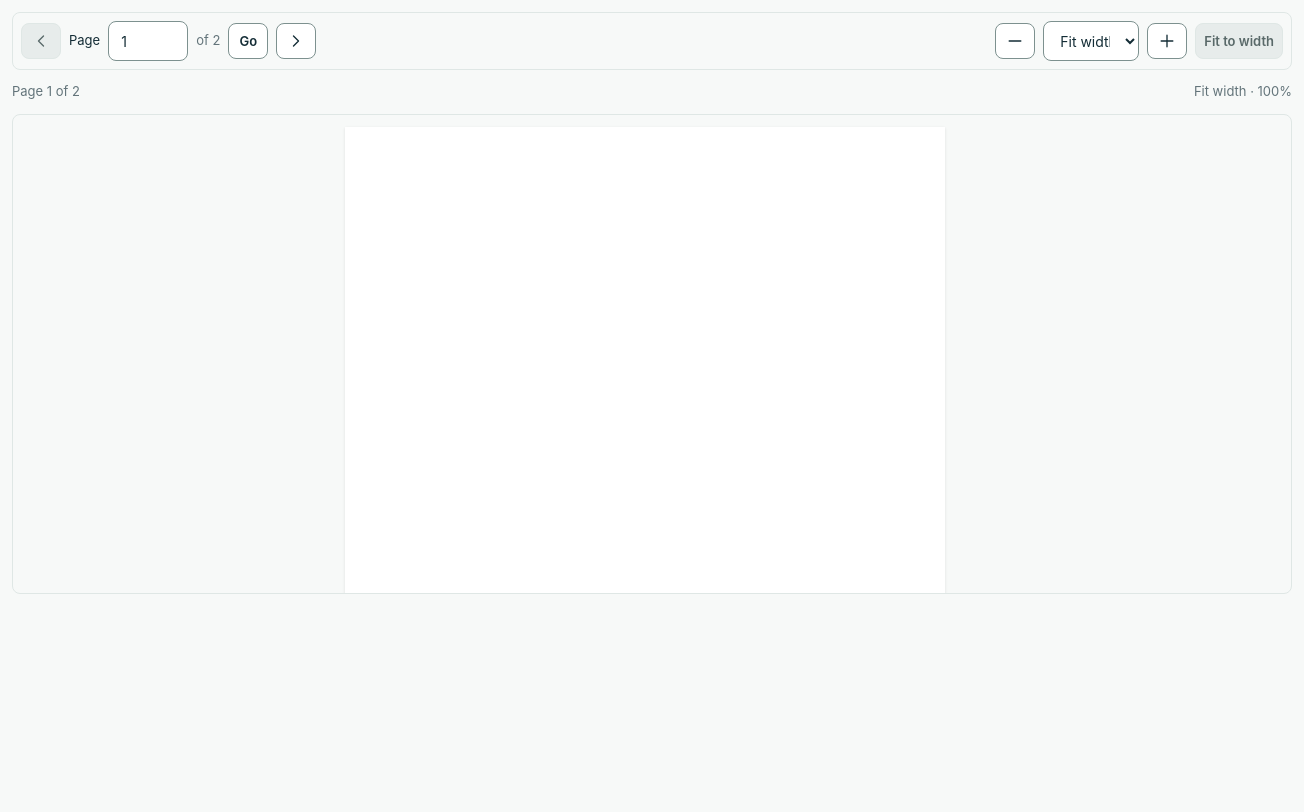
Scenario: PDF page reader › rejects invalid direct page entry "1.5" without inventing a page
Replace the text in the number field named "Page number" with "1.5" at (148, 41), box [108, 21, 188, 61]
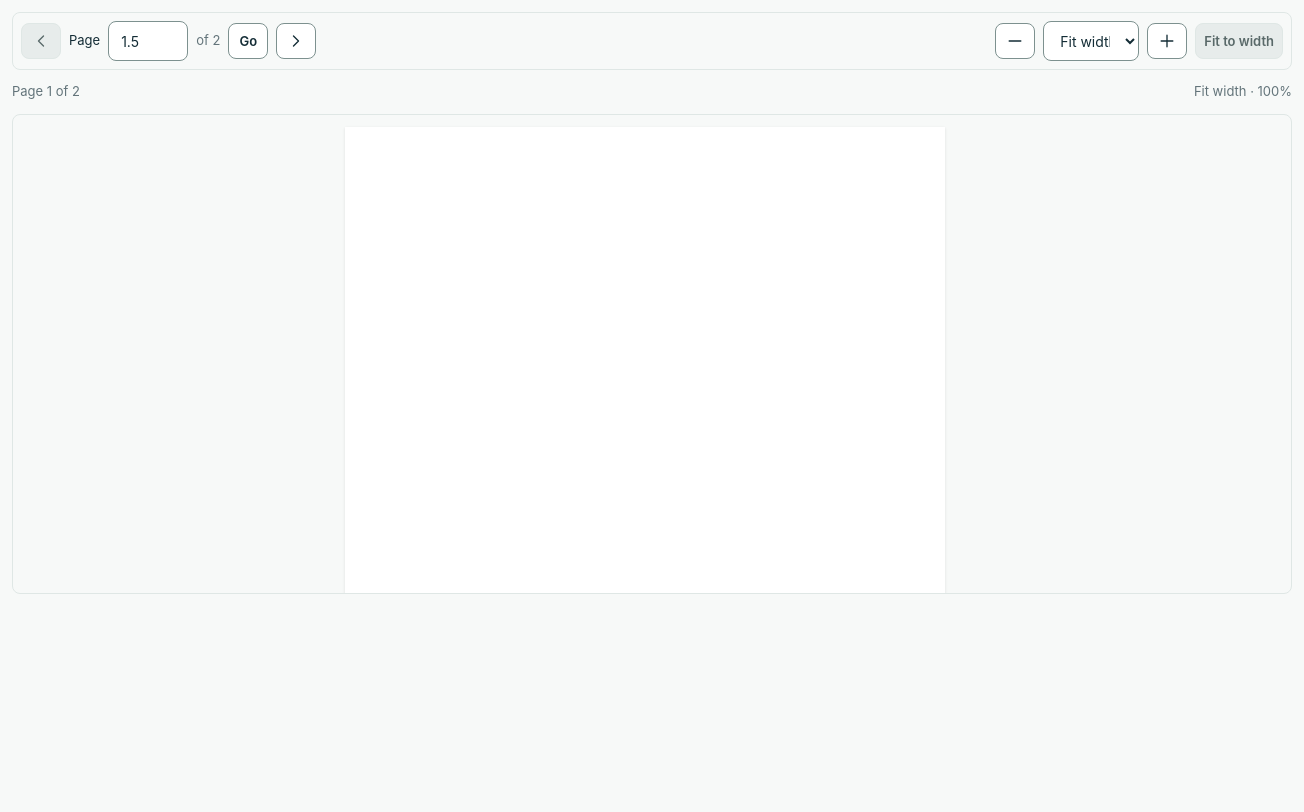
Click the button "Go" at (248, 41), box [228, 23, 268, 59]
(page scrolled)
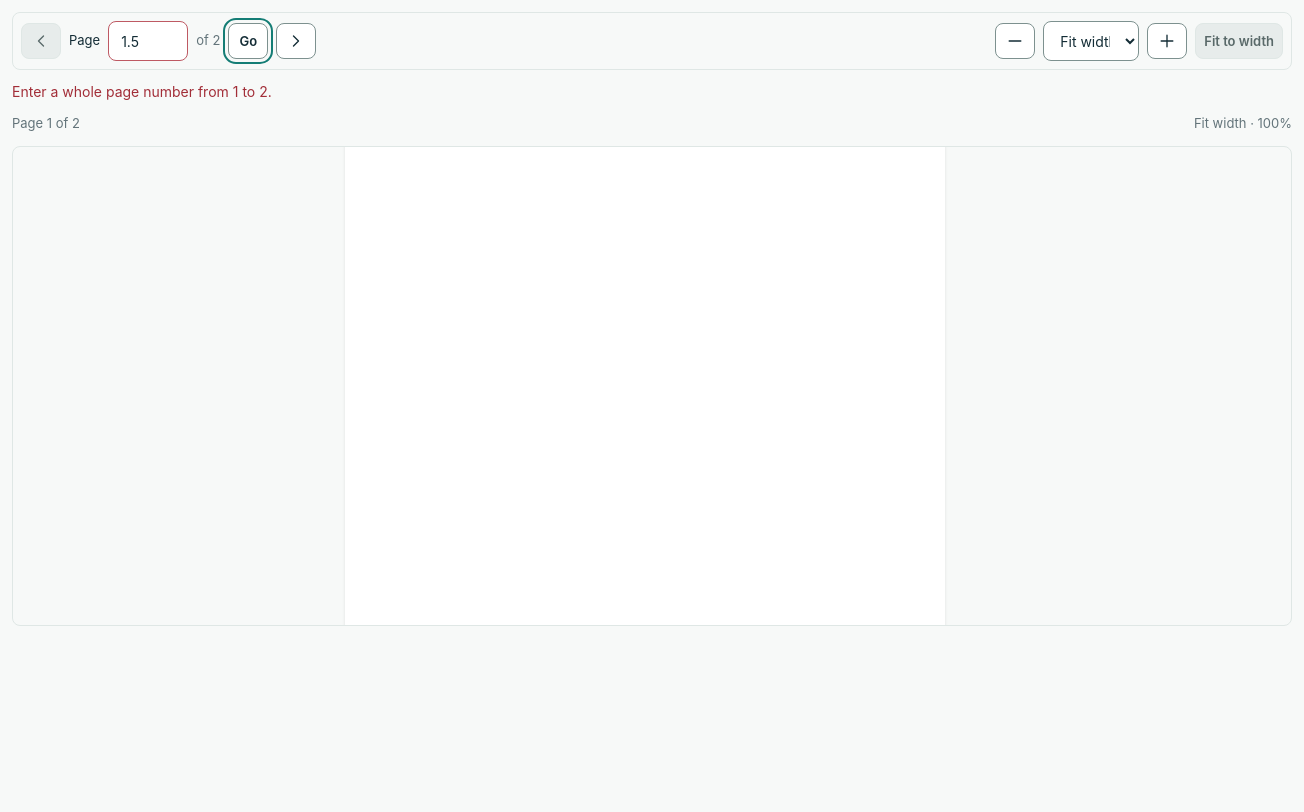
Expected: the text "Page 1 of 2" is shown, [12, 114, 80, 134]
Now the message reads "Enter a whole page number from 1 to 2.", box [12, 83, 272, 100]
